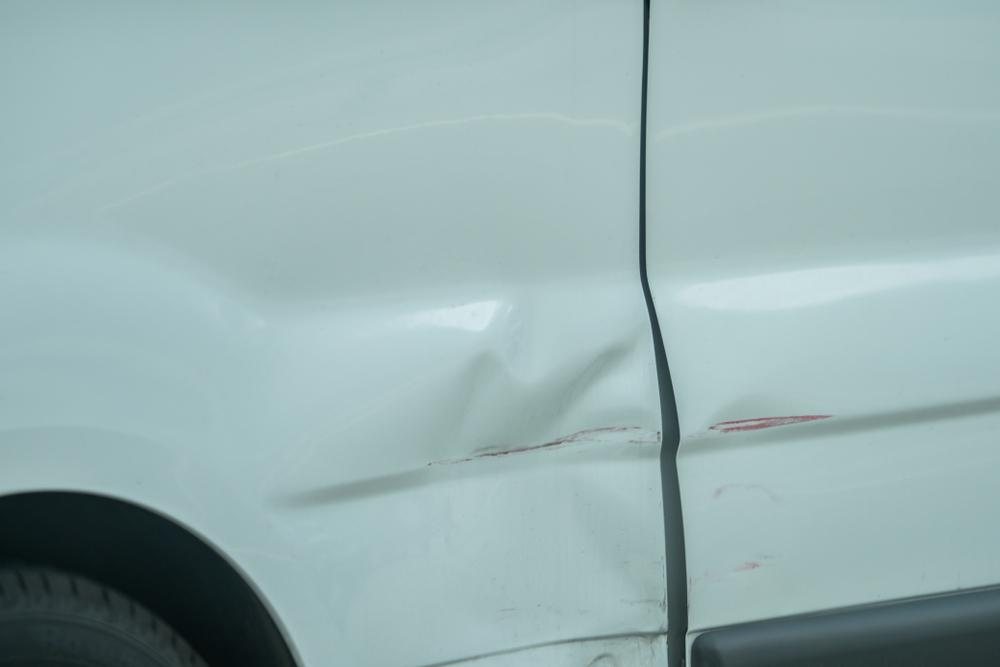dent: (185, 122, 668, 649)
scratch: (705, 410, 835, 438)
